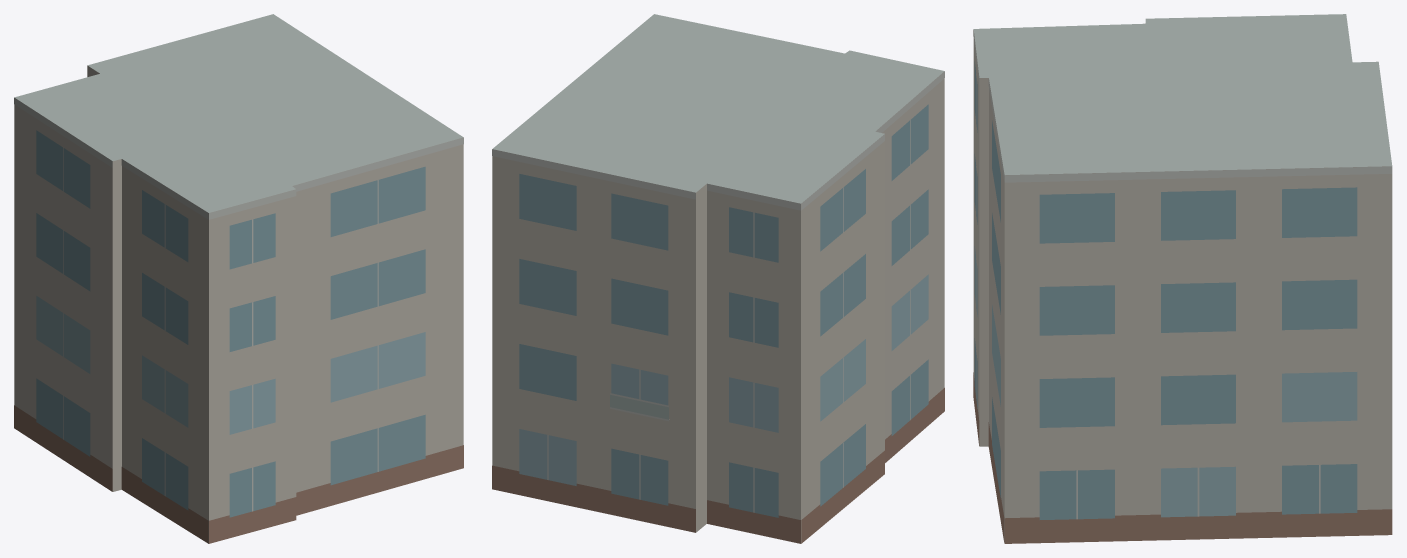
File: survey-upis-32877025.glb
3 views of the same model, side by side, from view 1: azimuth 30°, elevation 25°; view 2: azimuth 150°, elevation 25°; view 3: azimuth 270°, elevation 25° (orthographic). The views are drawn at different scales.
Parts seen in each view (by area): view 1: survey-upis-32877025.tmp; view 2: survey-upis-32877025.tmp; view 3: survey-upis-32877025.tmp.
Part boxes in pixels (bbox=[...]): survey-upis-32877025.tmp: bbox=[14, 14, 463, 543]; survey-upis-32877025.tmp: bbox=[492, 14, 944, 543]; survey-upis-32877025.tmp: bbox=[973, 14, 1392, 543].
Size of the model in its own units: 11.07 by 11.8 by 12.15.
